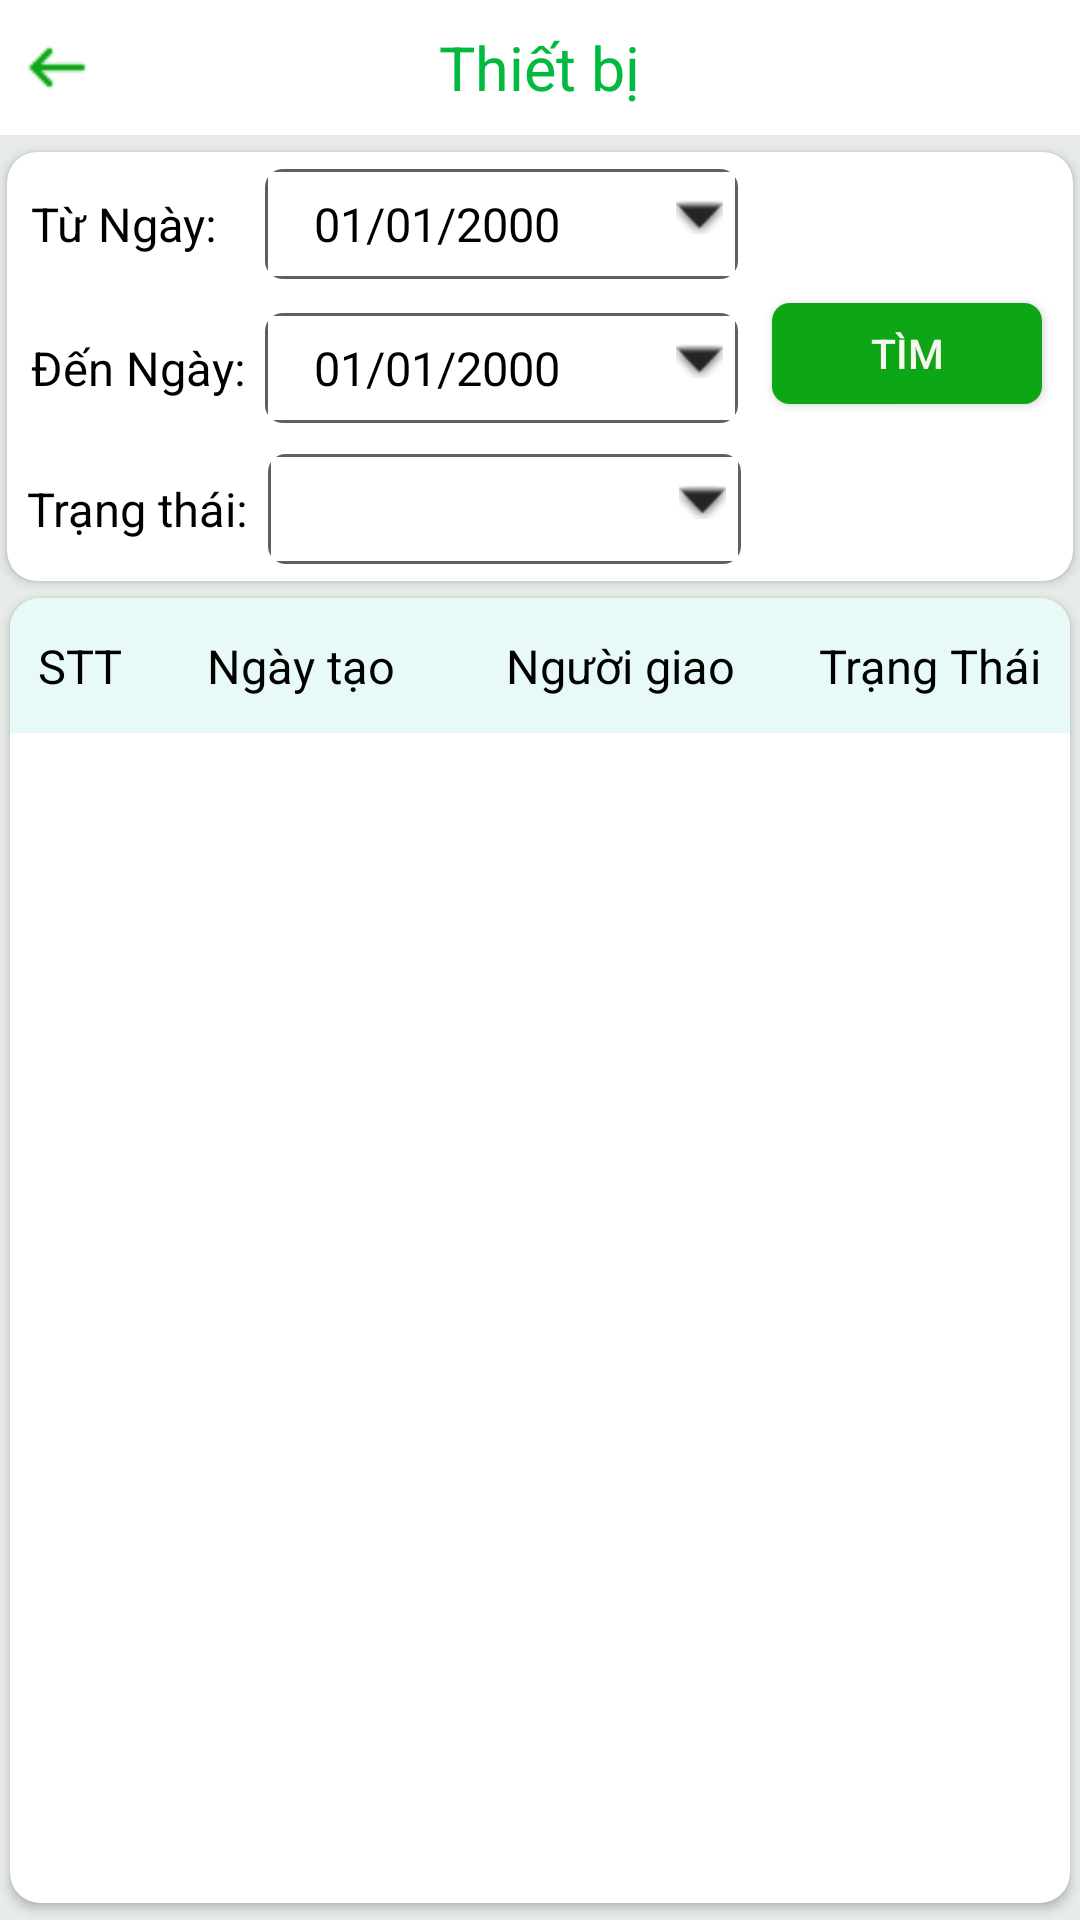

Icon bounding boxes for this 1080px x 1920px phone screenshot, format (x1,y1,x2,y2):
back: (28,47,86,88)
